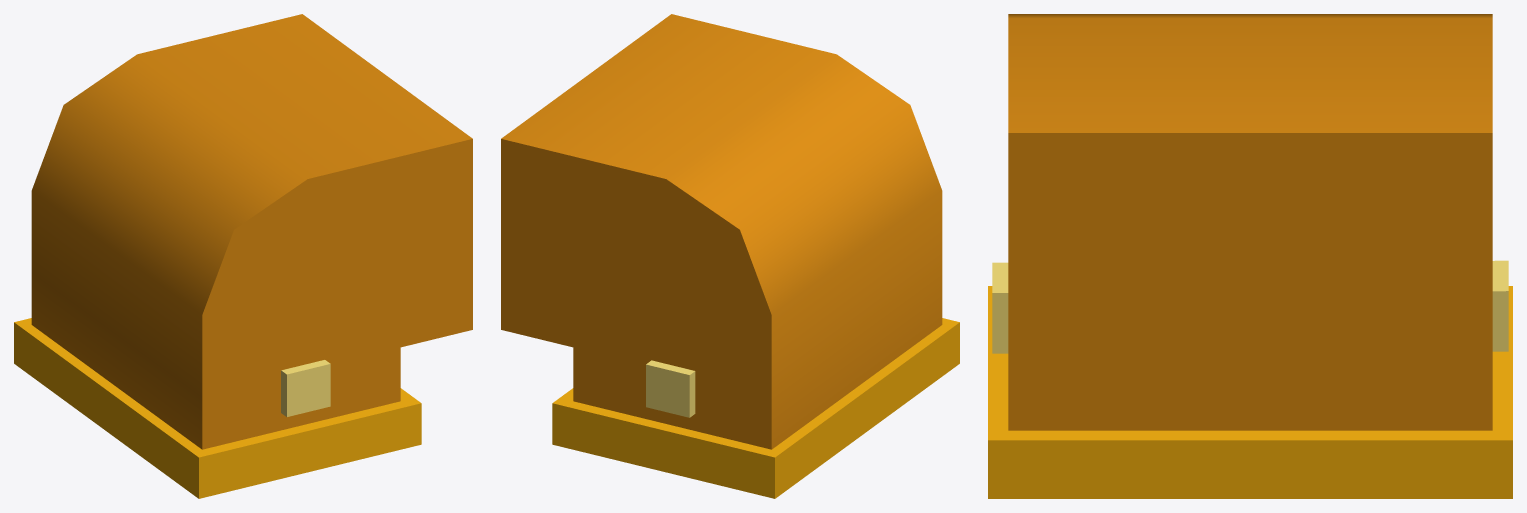
The model's file is Shoulder 04.FBX.
The picture shows the model from 3 angles, left to right: view 1: azimuth 30°, elevation 25°; view 2: azimuth 150°, elevation 25°; view 3: azimuth 270°, elevation 25°; orthographic projection. The views are drawn at different scales.
Visible parts, largest first — view 1: Shoulder 04; view 2: Shoulder 04; view 3: Shoulder 04.
Boxes of the visible parts, x1,y1,x2,y2 form: Shoulder 04: (14,14,472,498); Shoulder 04: (501,14,959,498); Shoulder 04: (988,14,1512,498).
Size of the model in its own units: 22.33 by 21.72 by 25.42.
1 material, 1 textured.
